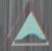Speed Breaker ahead: (5, 8, 50, 50)
